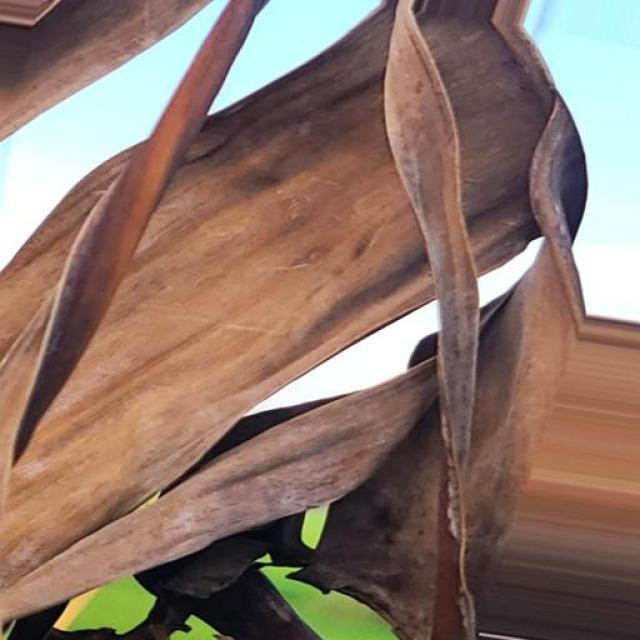Bract_mosaic_virus: (271, 160, 640, 640), (0, 157, 265, 640), (280, 2, 594, 239), (2, 2, 278, 158)
